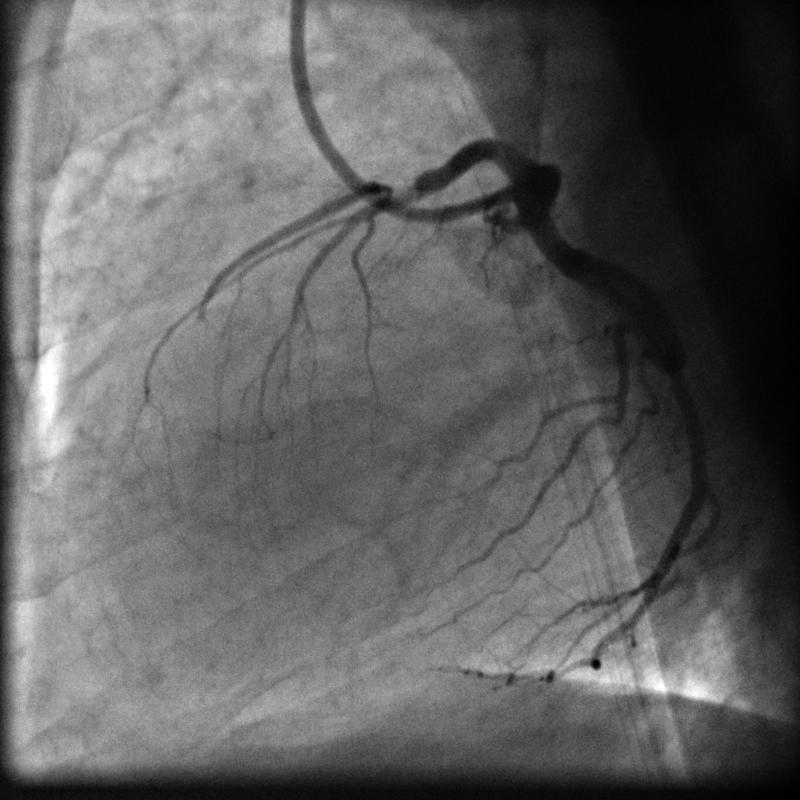Stenosis: (373, 172, 425, 211)
